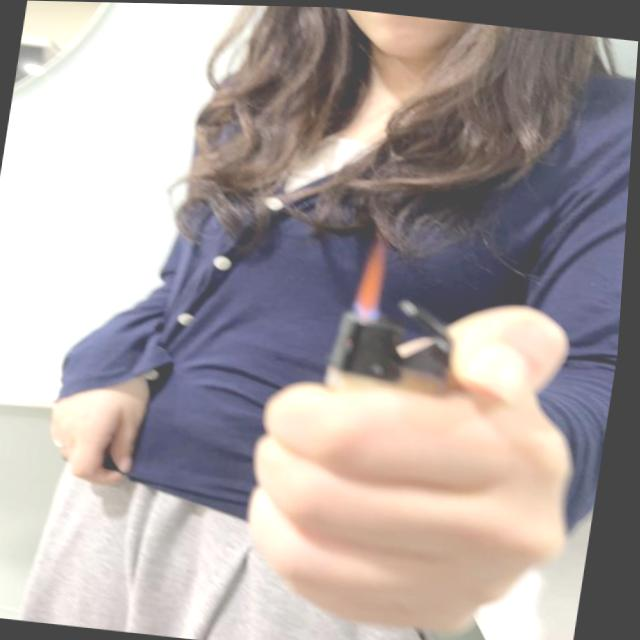Fire: (351, 229, 397, 325)
